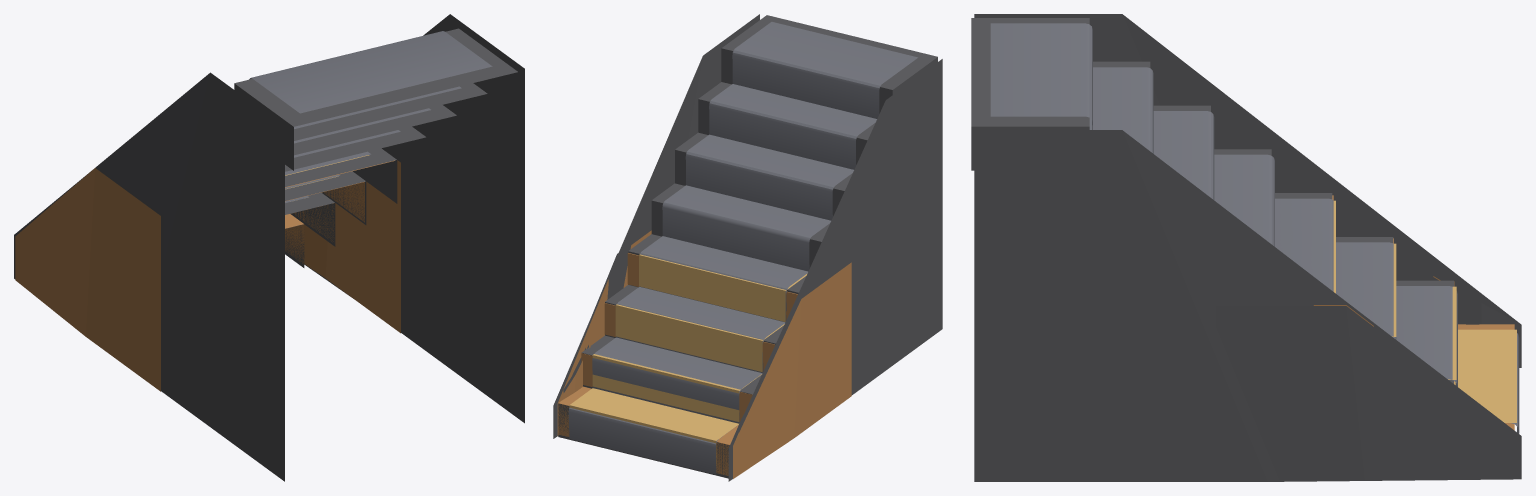
File: SM_Rock_Stairs.fbx
3 renders of one model, left to right at view 1: azimuth 30°, elevation 25°; view 2: azimuth 150°, elevation 25°; view 3: azimuth 270°, elevation 25°, orthographic. The views are drawn at different scales.
Visible parts, largest first — view 1: Rock_Stair_Big, Polshed_Rock_Stair, Rock_Stair; view 2: Rock_Stair_Big, Polshed_Rock_Stair, Rock_Stair; view 3: Rock_Stair_Big, Rock_Stair, Polshed_Rock_Stair.
Part boxes in pixels (x1=…): Rock_Stair_Big: x1=14, y1=14, x2=524, y2=481; Polshed_Rock_Stair: x1=15, y1=155, x2=400, y2=391; Rock_Stair: x1=96, y1=151, x2=402, y2=390; Rock_Stair_Big: x1=553, y1=14, x2=942, y2=481; Polshed_Rock_Stair: x1=557, y1=230, x2=851, y2=478; Rock_Stair: x1=558, y1=236, x2=849, y2=478; Rock_Stair_Big: x1=971, y1=14, x2=1521, y2=481; Rock_Stair: x1=1215, y1=193, x2=1519, y2=480; Polshed_Rock_Stair: x1=1313, y1=195, x2=1516, y2=430.
Bounding box in the file's own units: 1.08 × 1.53 × 2.15.
